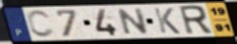4: (94, 8, 119, 37)
7: (55, 8, 80, 38)
C: (25, 9, 57, 39)
K: (153, 7, 183, 35)
N: (117, 8, 151, 37)
R: (177, 5, 215, 37)
